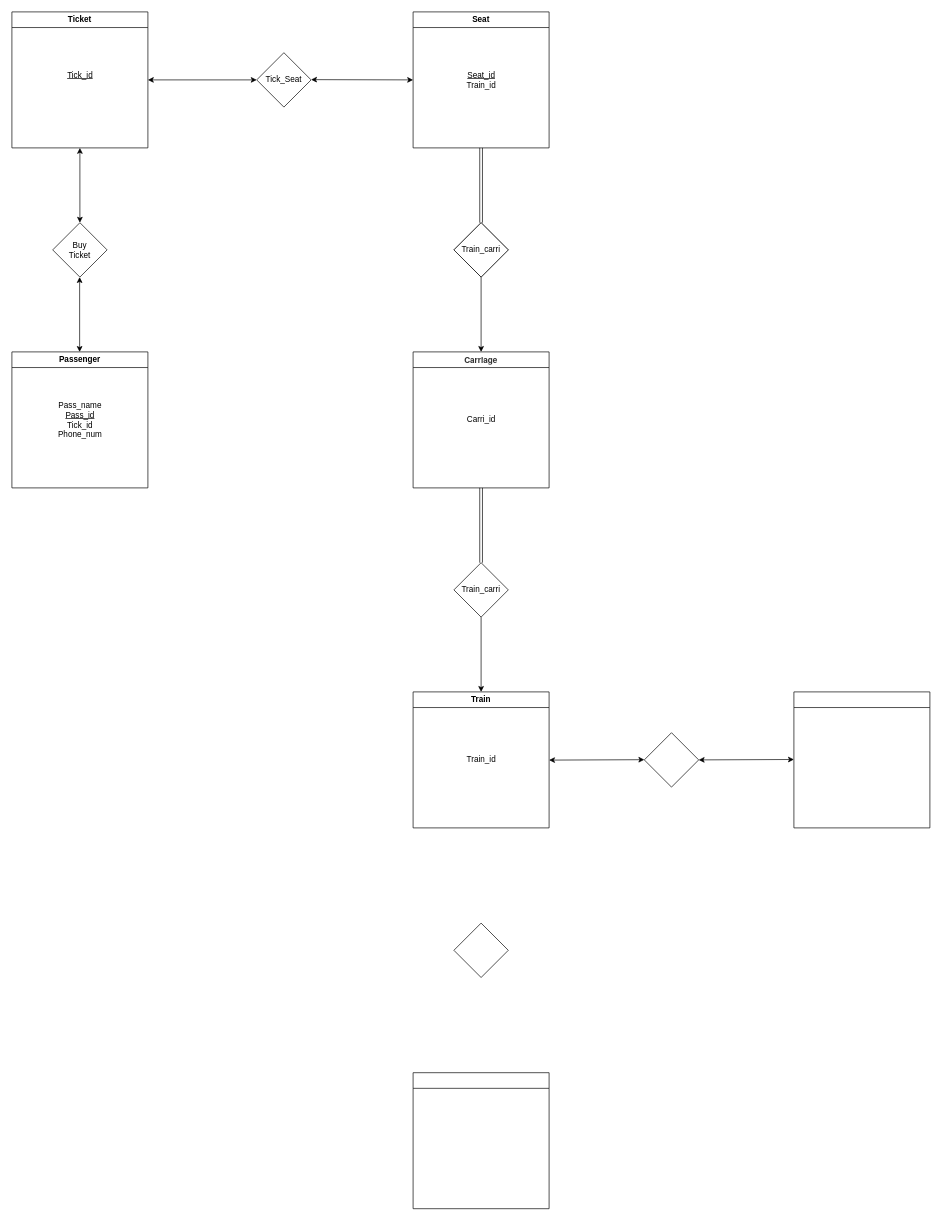
Image size: 942x1221. Some labels were removed from this diagram. Here are the shapes that lost their labels. From the top down, the centre of each, then its label:
[861,759]: Capacity
[480,1140]: Station
